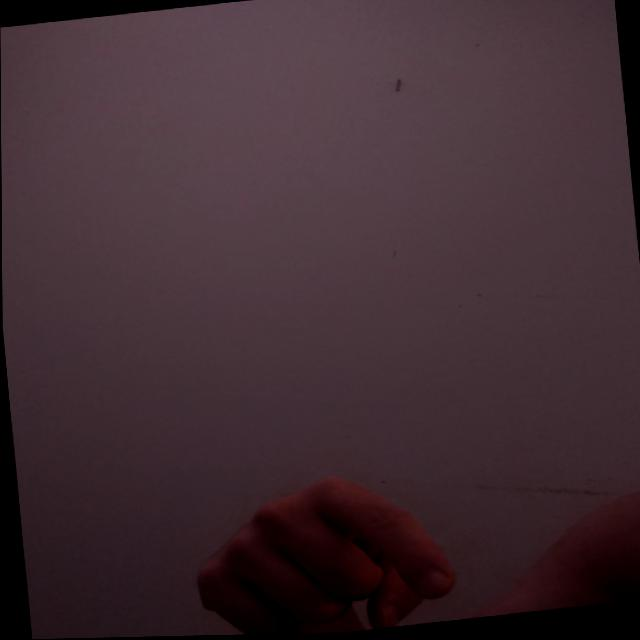Z: (179, 466, 466, 636)
